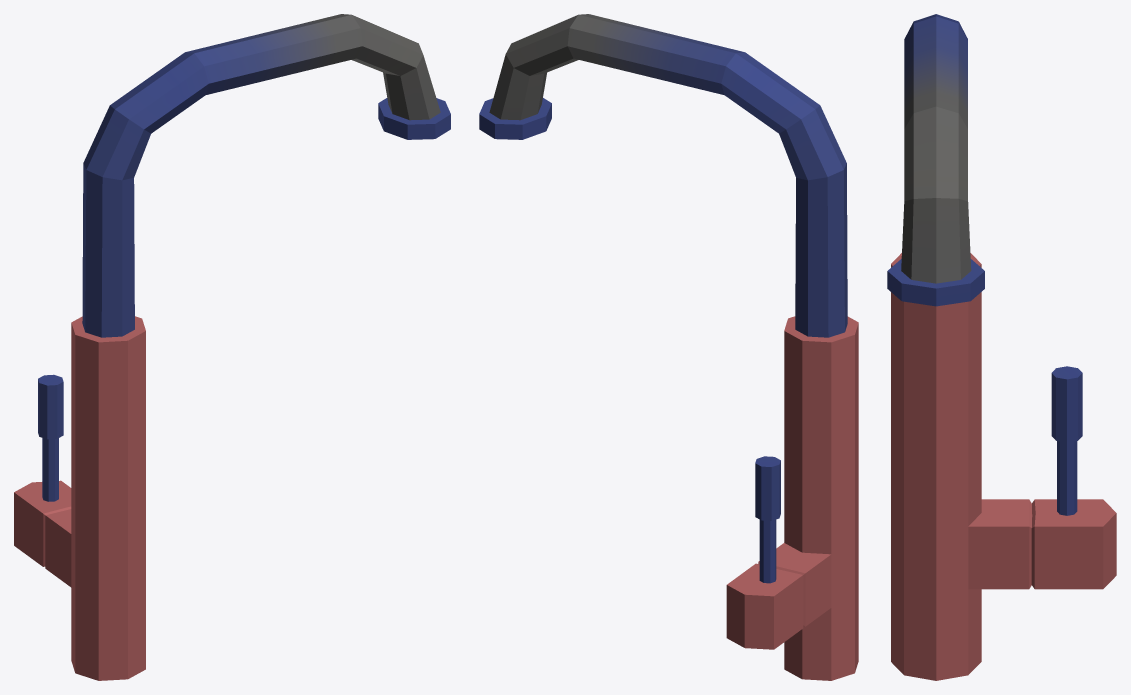
Rendered from Kitchen_Tap.fbx.
3 renders of one model, left to right at view 1: azimuth 30°, elevation 25°; view 2: azimuth 150°, elevation 25°; view 3: azimuth 270°, elevation 25°, orthographic. The views are drawn at different scales.
Parts seen in each view (by area): view 1: Kitchen_Tap; view 2: Kitchen_Tap; view 3: Kitchen_Tap.
Part boxes in pixels (x1,y1,x2,y2): Kitchen_Tap: [14, 14, 450, 680]; Kitchen_Tap: [479, 14, 858, 680]; Kitchen_Tap: [887, 14, 1116, 680].
Bounding box in the file's own units: 34.81 × 53.14 × 15.88.
